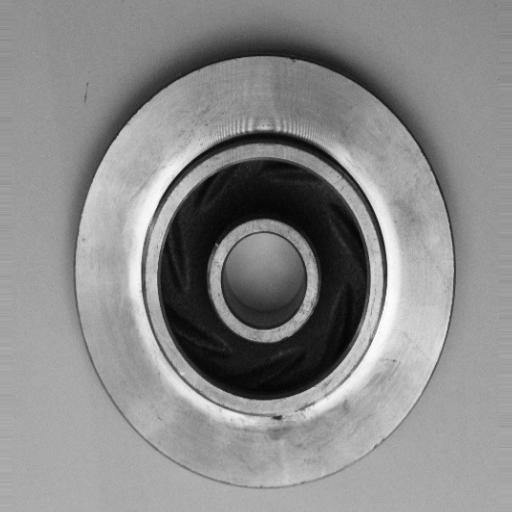scratch: (260, 401, 310, 432)
unpolished_casting: (74, 52, 457, 490)
